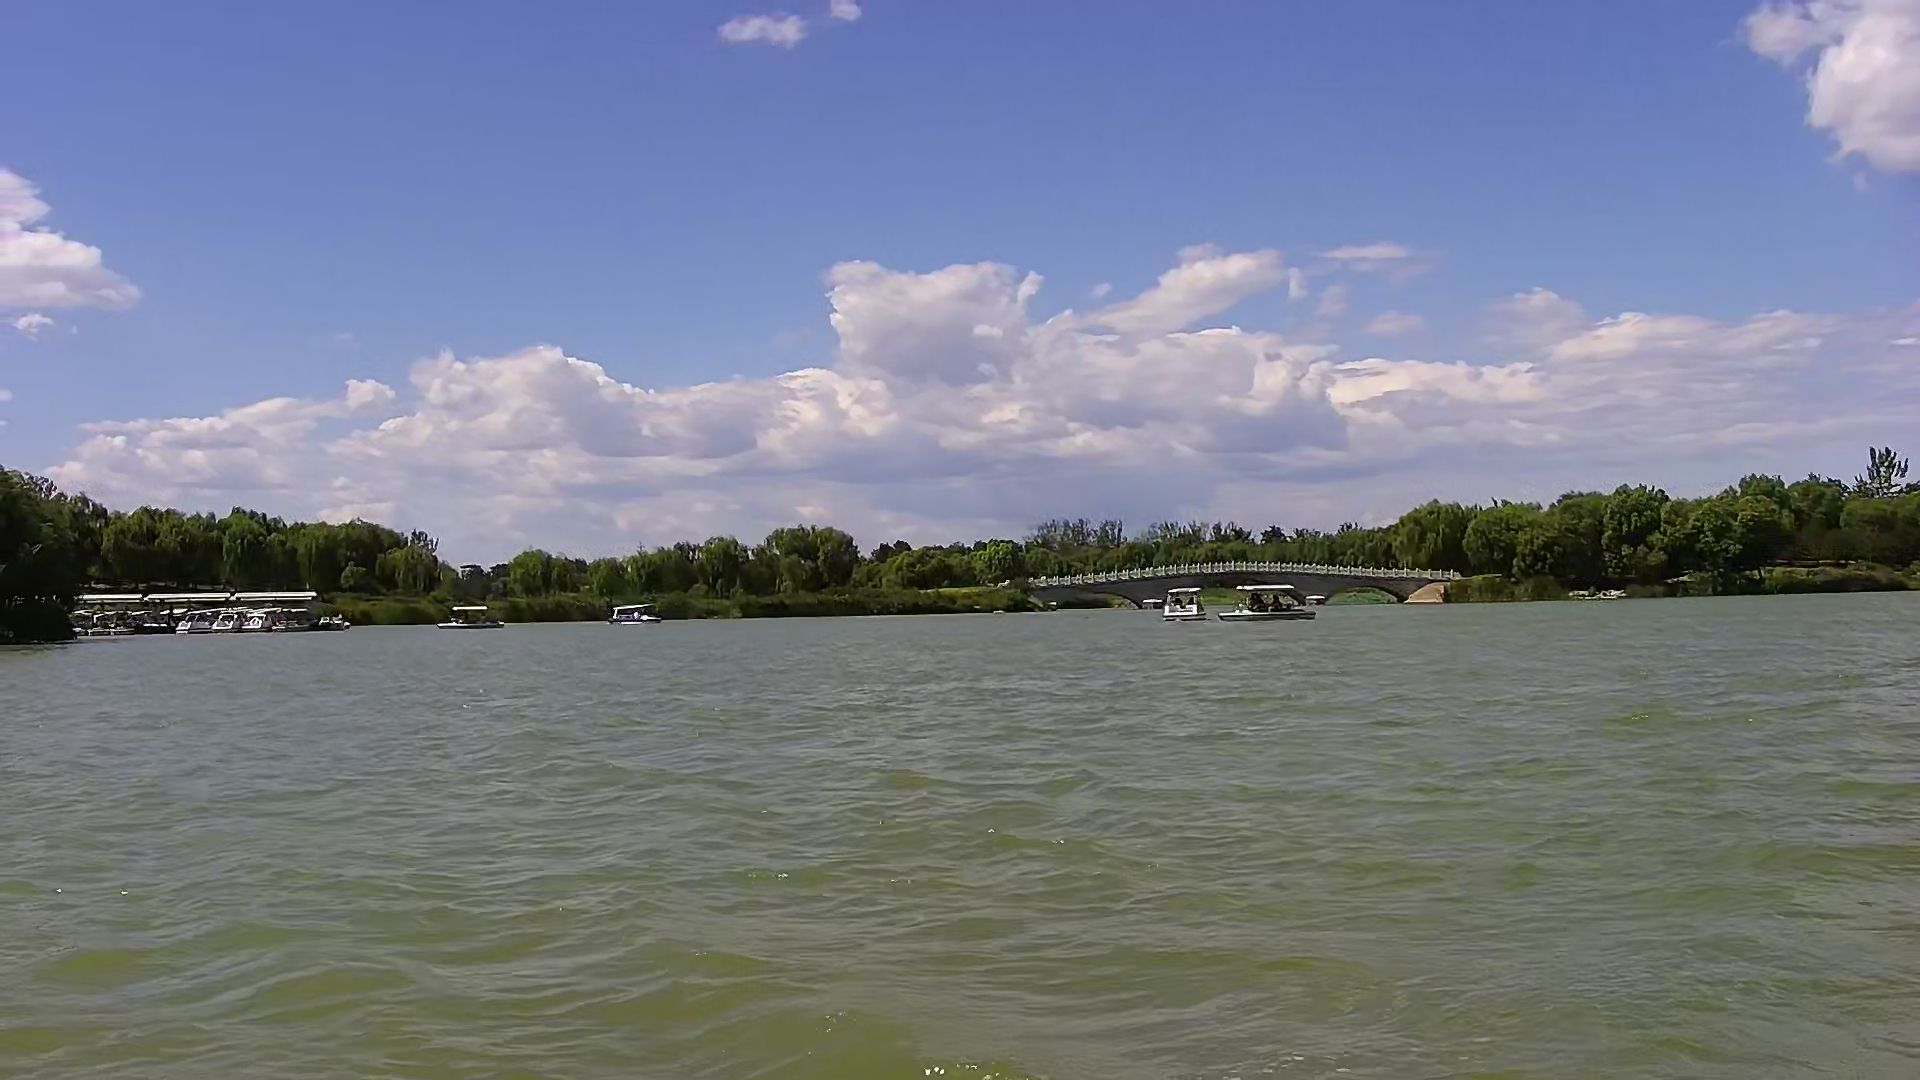boat: (1218, 582, 1327, 626), (427, 589, 509, 636), (1155, 580, 1211, 634), (595, 596, 667, 634), (241, 604, 299, 632), (313, 603, 351, 640), (137, 604, 173, 644), (175, 603, 218, 634), (214, 607, 245, 638)
bridge: (1021, 562, 1472, 612)
